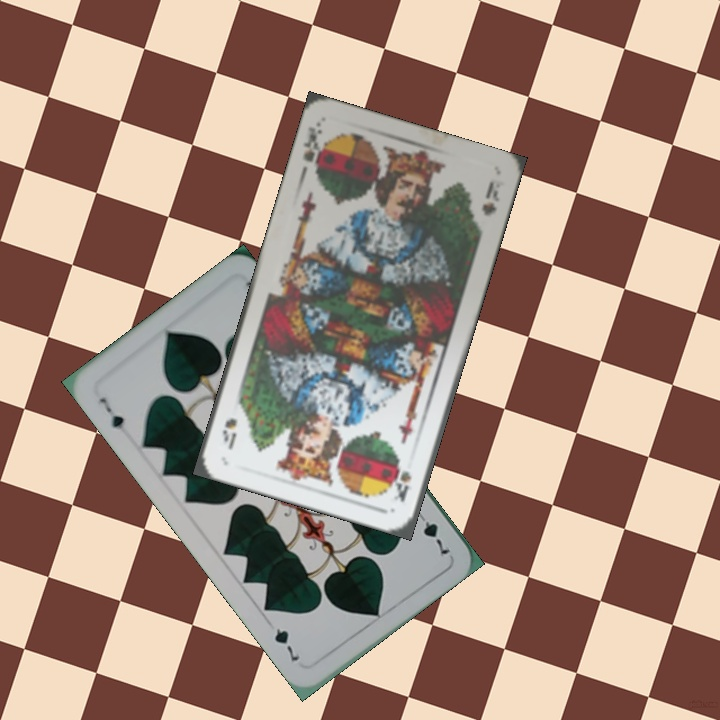G7: (413, 507, 453, 559), (94, 393, 127, 432)
SK: (299, 120, 329, 177), (390, 462, 414, 504)
